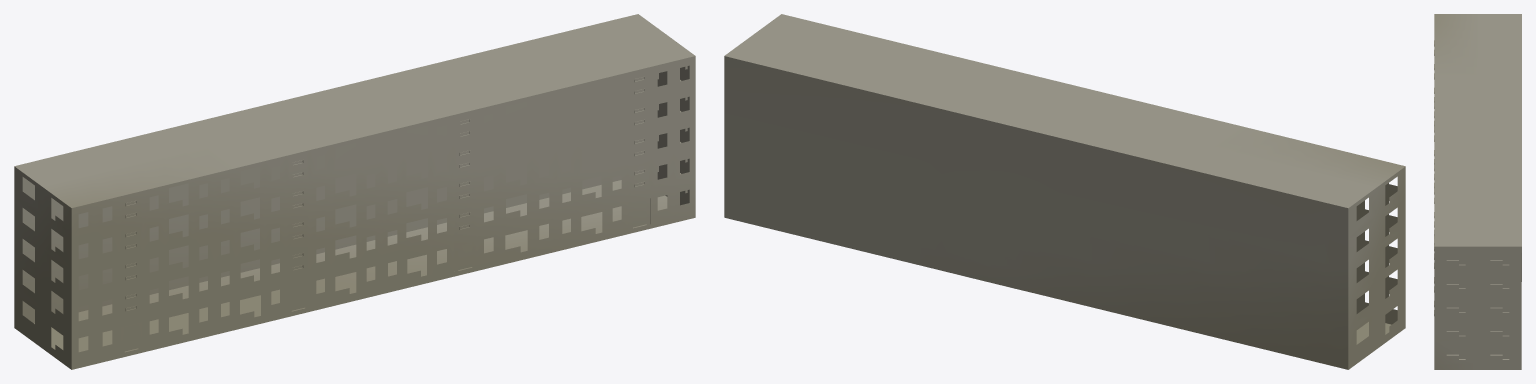
Rendered from Euro facade.fbx.
The picture shows the model from 3 angles, left to right: view 1: azimuth 30°, elevation 25°; view 2: azimuth 150°, elevation 25°; view 3: azimuth 270°, elevation 25°; orthographic projection. The views are drawn at different scales.
Parts seen in each view (by area): view 1: Evro fasad; view 2: Evro fasad; view 3: Evro fasad.
Part boxes in pixels (left/top/right/bottom): Evro fasad: left=14, top=14, right=695, bottom=369; Evro fasad: left=724, top=14, right=1405, bottom=369; Evro fasad: left=1434, top=14, right=1521, bottom=369.
Size of the model in its own units: 15387 by 3811 by 2461.
